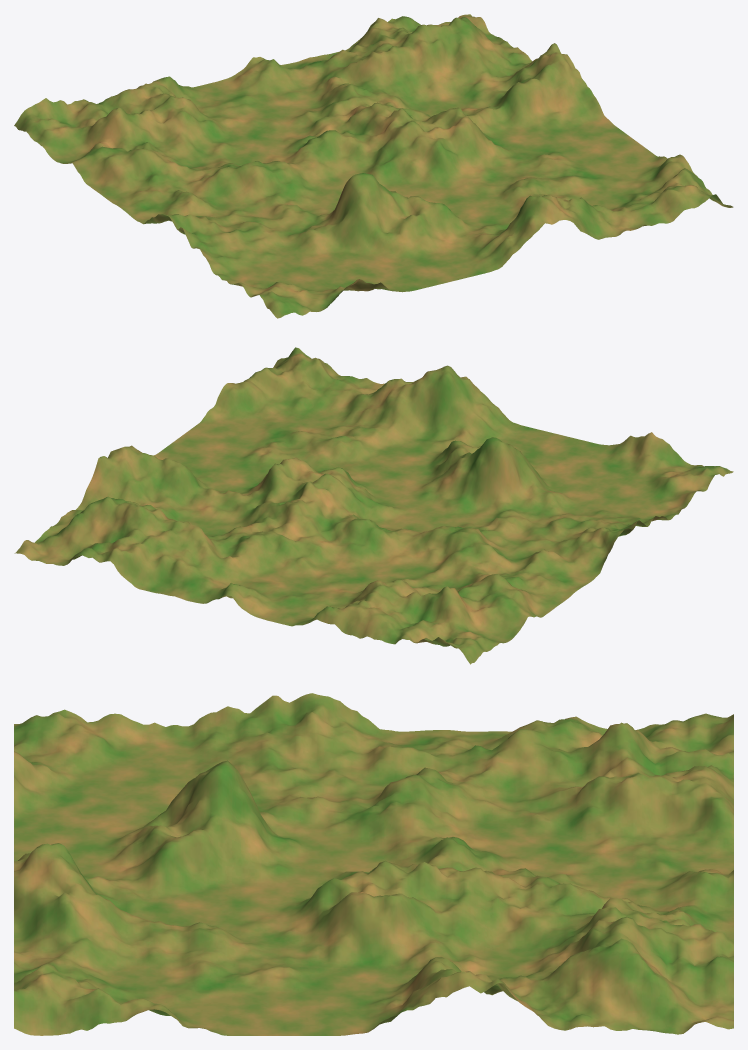
The model's file is chao.obj.
3 renders of one model, top to bottom at view 1: azimuth 30°, elevation 25°; view 2: azimuth 150°, elevation 25°; view 3: azimuth 270°, elevation 25°, orthographic. The views are drawn at different scales.
Bounding box in the file's own units: 17.4 × 1.97 × 17.4.
Materials: 1 (1 with a texture image).
